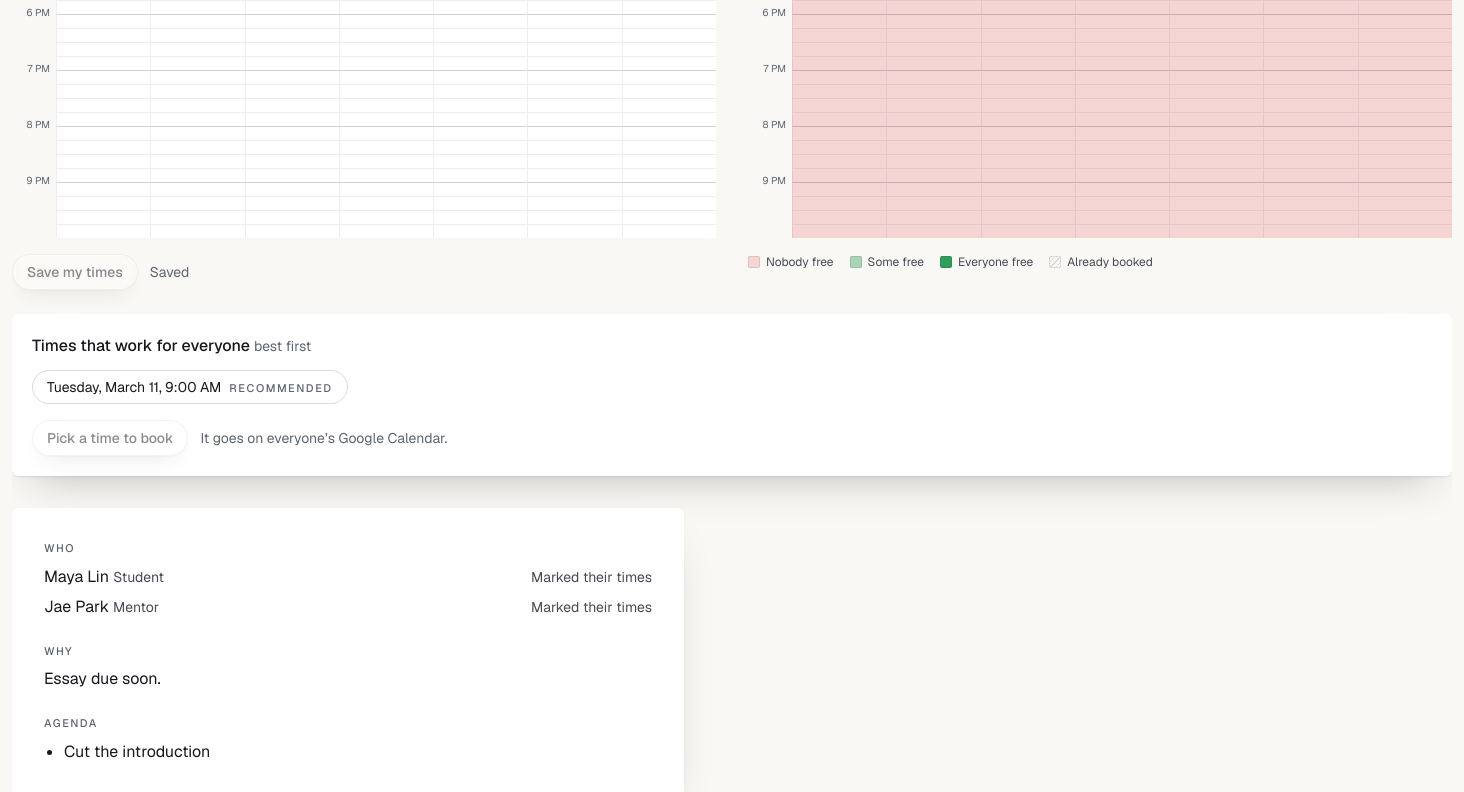
Test: MeetingDetail with the availability grid › lets a mentor book a time that works for everyone
(page scrolled)
Click the button "Recommended" at (190, 387), box top-left (32, 370), bottom-right (348, 404)
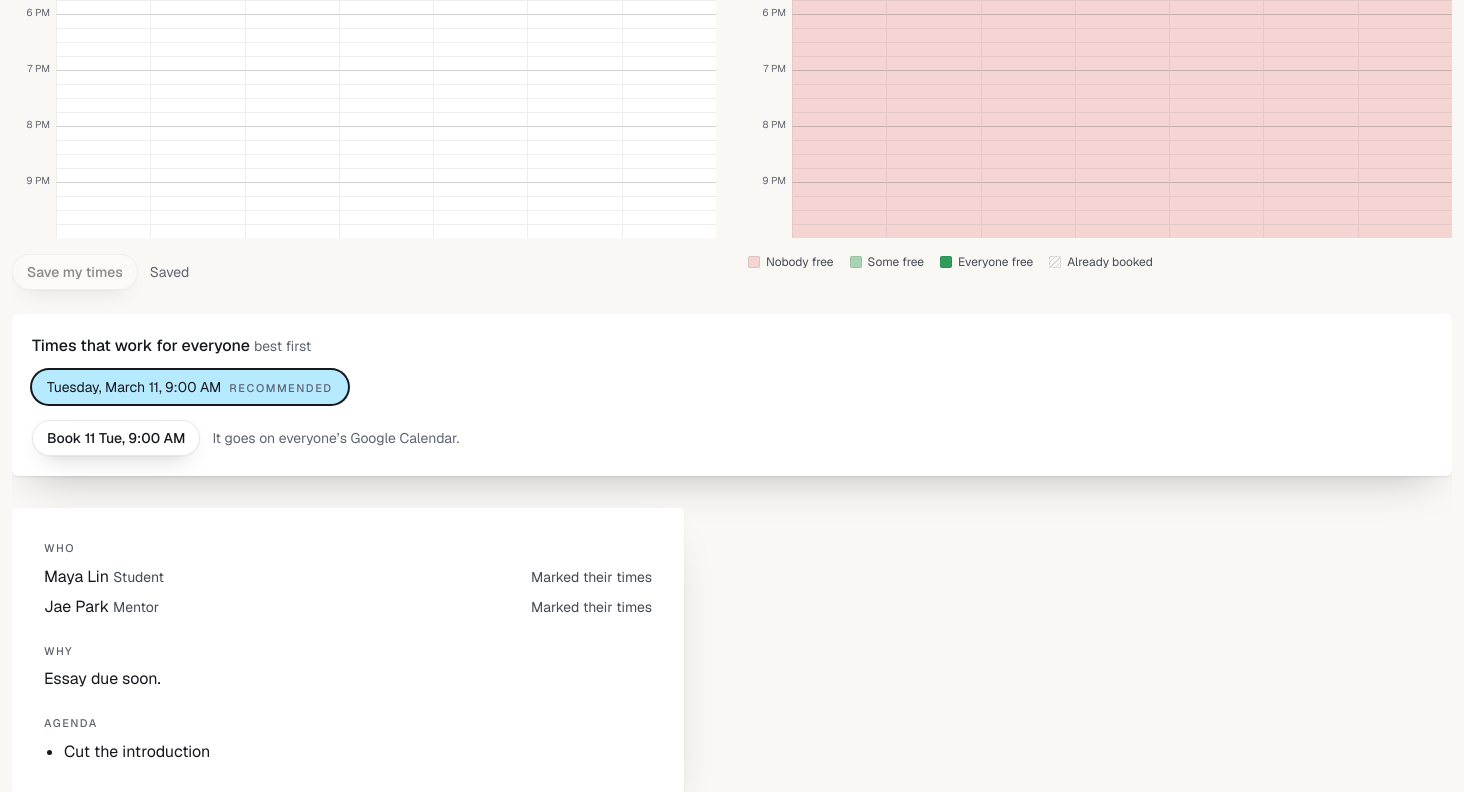
Click the button "Book 11 Tue, 9:00 AM" at (116, 438), box top-left (32, 420), bottom-right (200, 456)
(page scrolled)
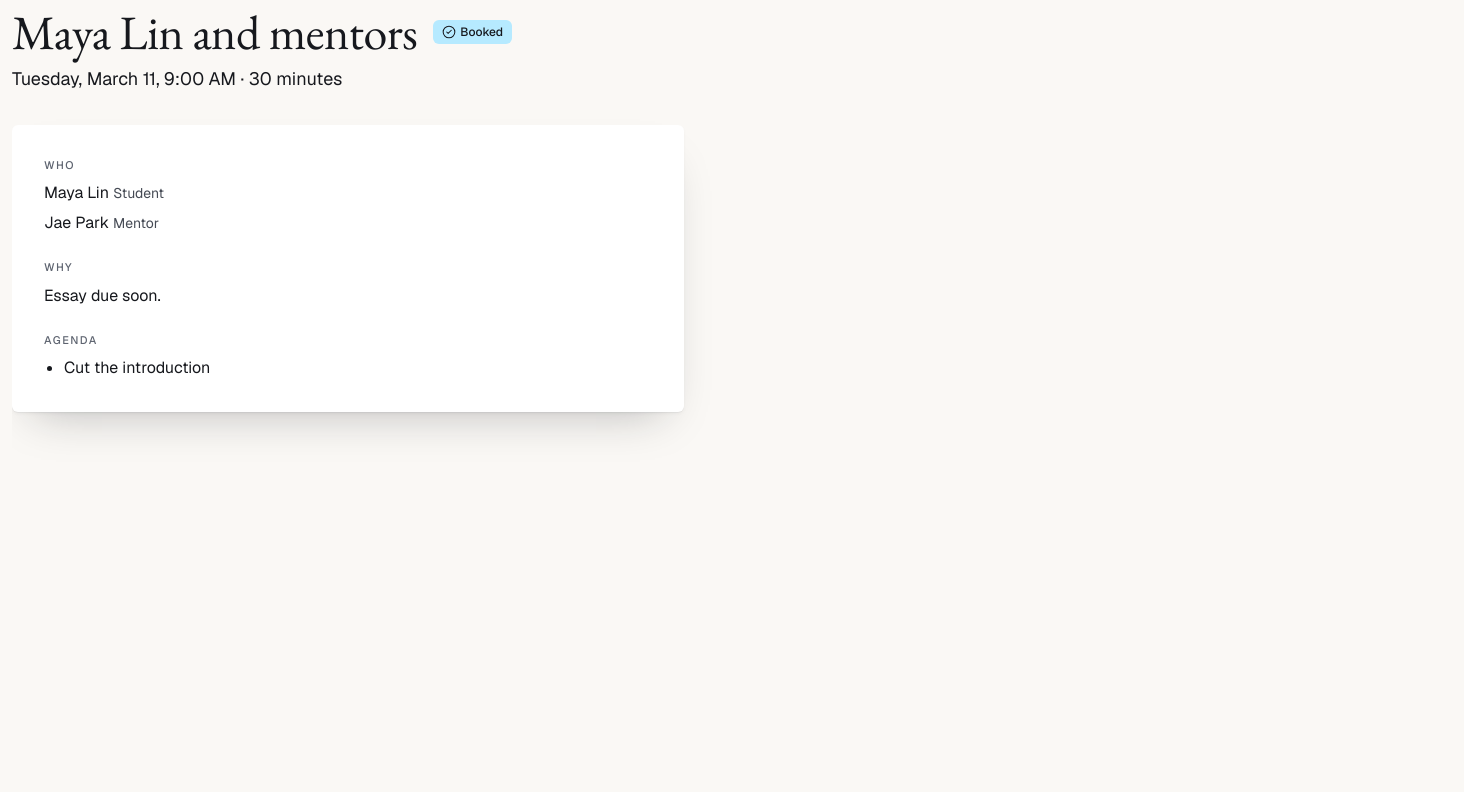
Check: the text "Booked" is shown, box top-left (433, 20), bottom-right (512, 44)
